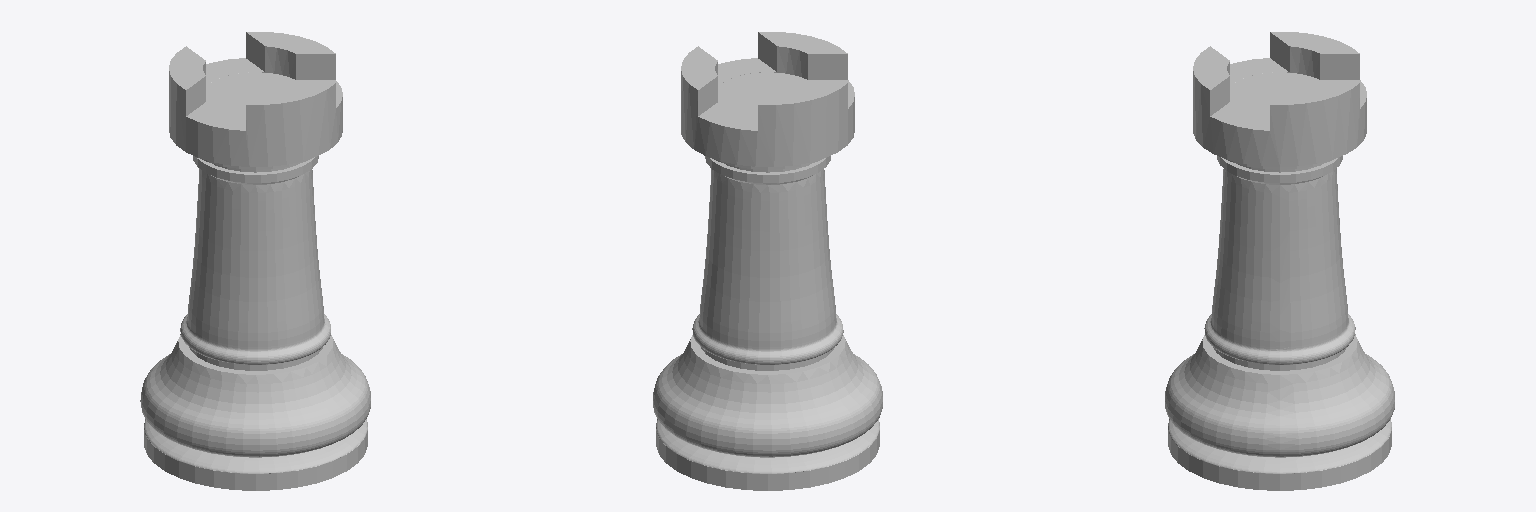
Rendered from rook_white.obj.
The picture shows the model from 3 angles: view 1: azimuth 30°, elevation 25°; view 2: azimuth 150°, elevation 25°; view 3: azimuth 270°, elevation 25°; orthographic projection.
Parts seen in each view (by area): view 1: Body7; view 2: Body7; view 3: Body7.
Boxes of the visible parts, <box> form: Body7: <box>140,32,370,490</box>; Body7: <box>653,32,882,490</box>; Body7: <box>1165,32,1394,490</box>.
Size of the model in its own units: 3.71 by 6.65 by 3.7.